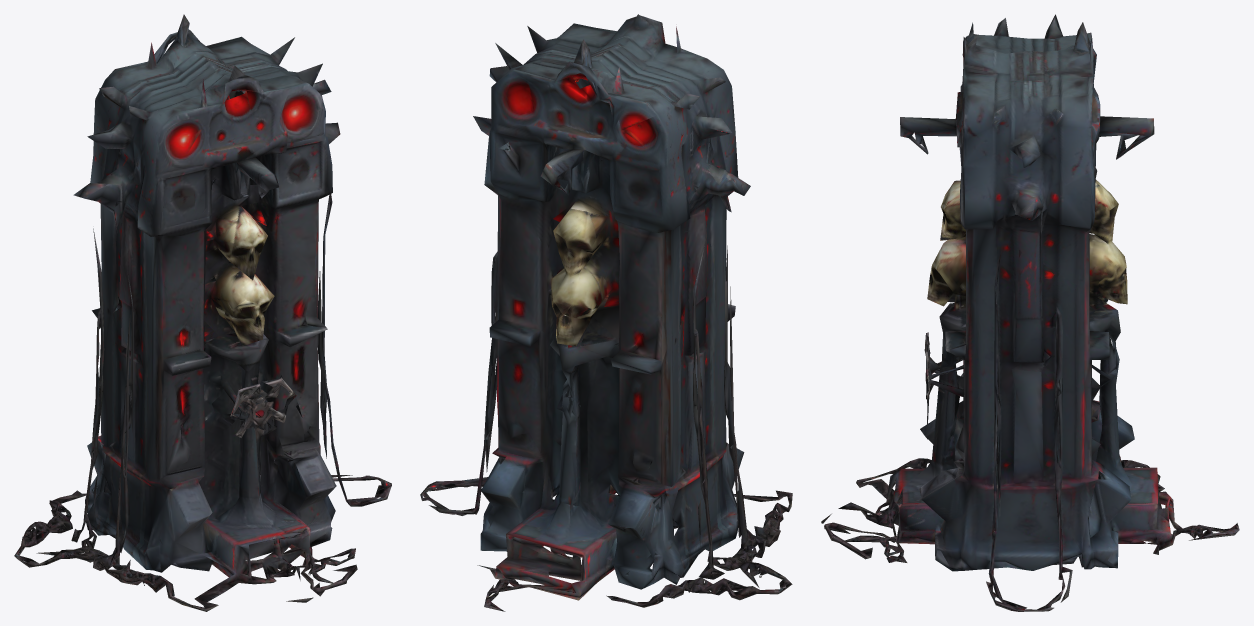
File: executionerChest.glb
3 renders of one model, left to right at view 1: azimuth 30°, elevation 25°; view 2: azimuth 150°, elevation 25°; view 3: azimuth 270°, elevation 25°, orthographic. The views are drawn at different scales.
Bounding box in the file's own units: 1.46 × 1.94 × 1.45.
Materials: 1 (1 with a texture image).
